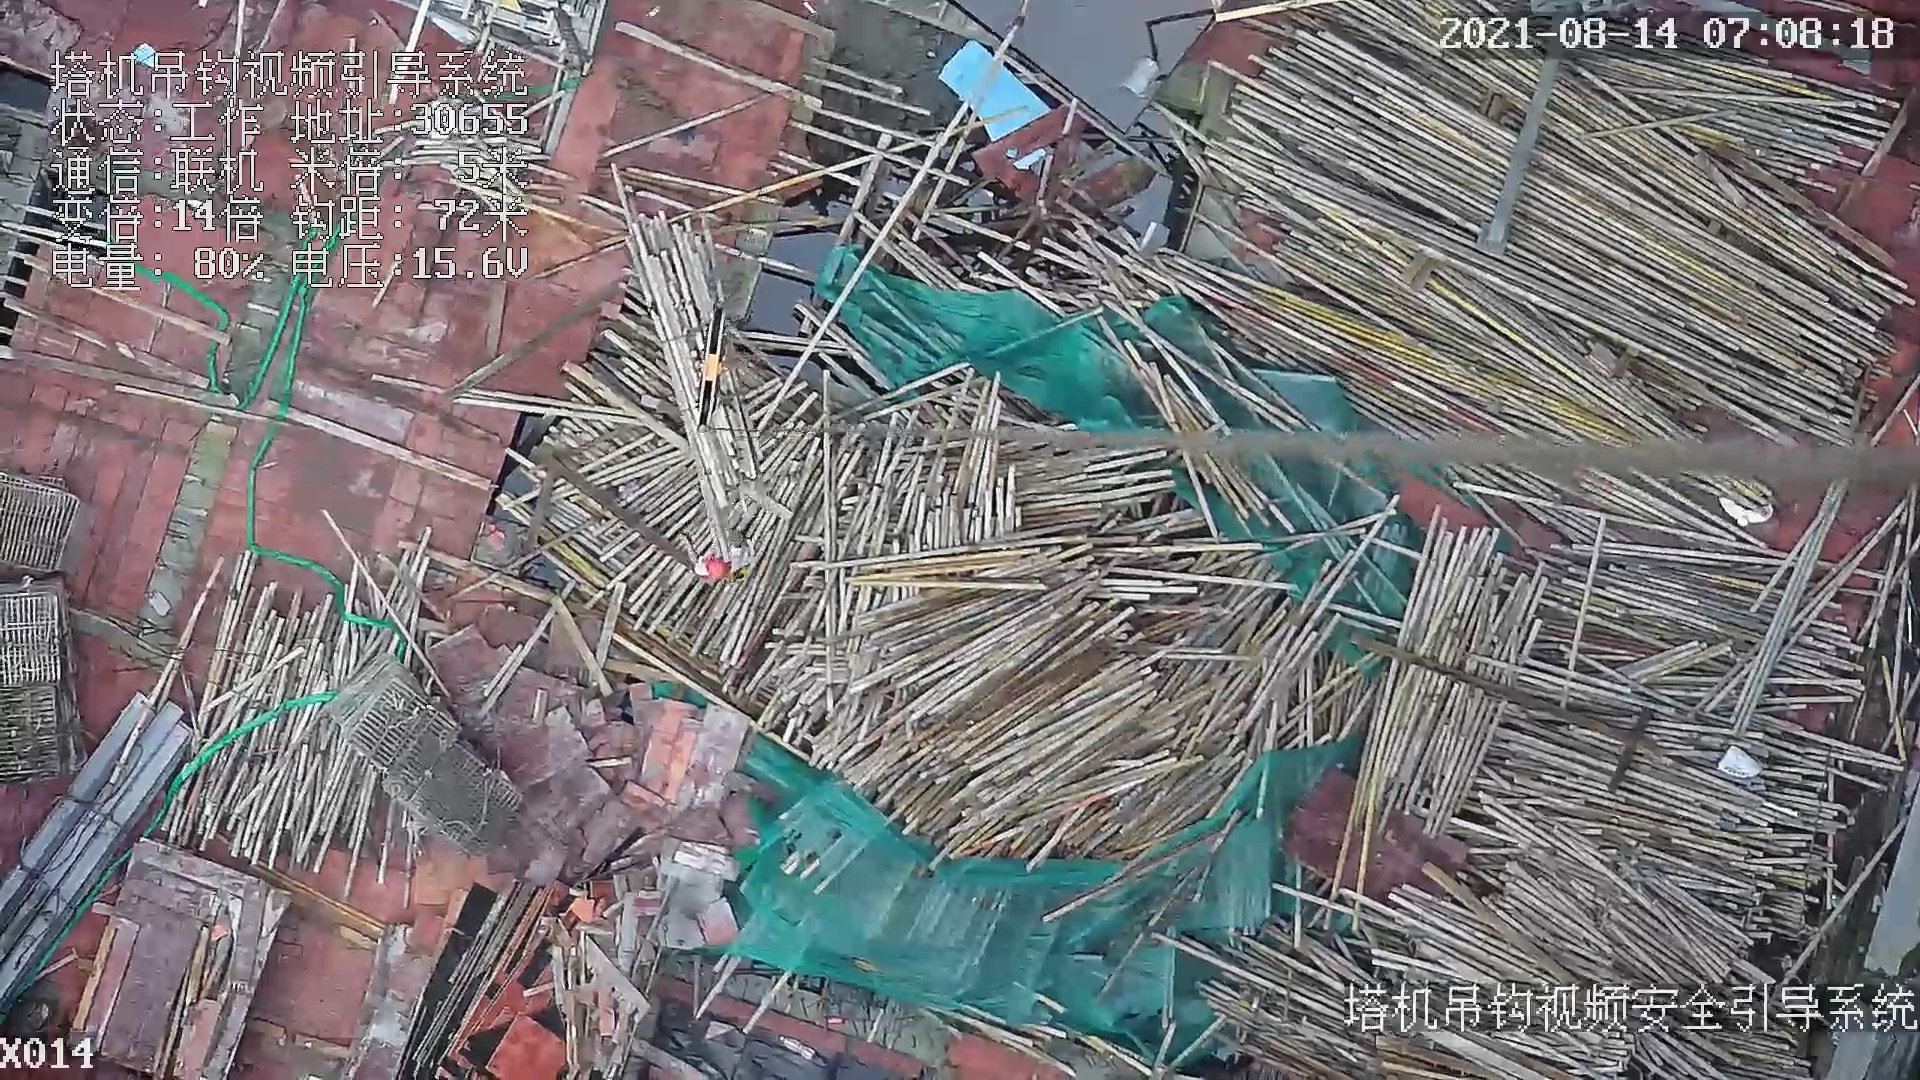helmet: (705, 557, 730, 582)
hook: (691, 301, 724, 441)
person: (687, 547, 749, 586)
